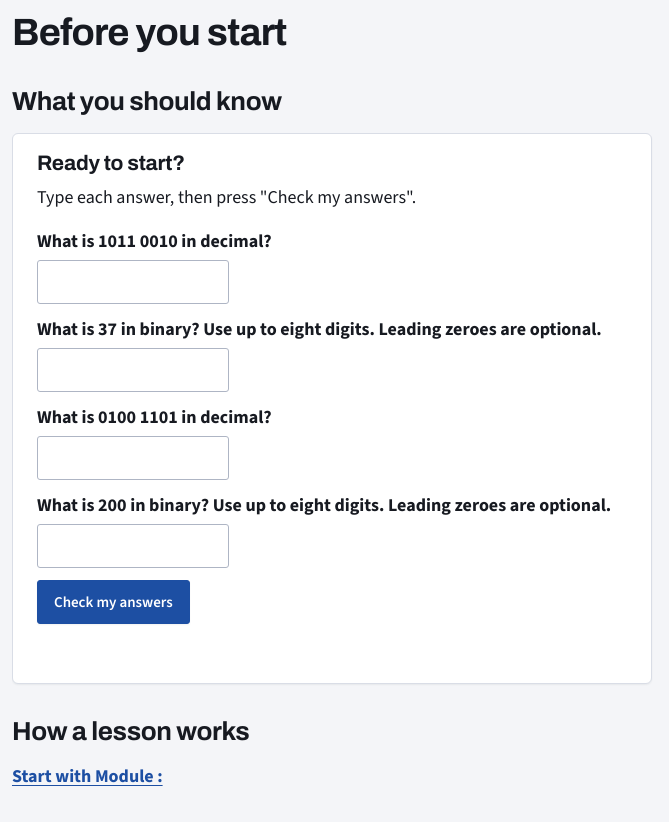
Scenario: the page before the first lesson › marks each answer, shows the working under a wrong one, and clears the marks on an edit
Type "178" into the field labelled "What is 1011 0010 in decimal?" at point(133, 282), box 37,260 -> 229,304
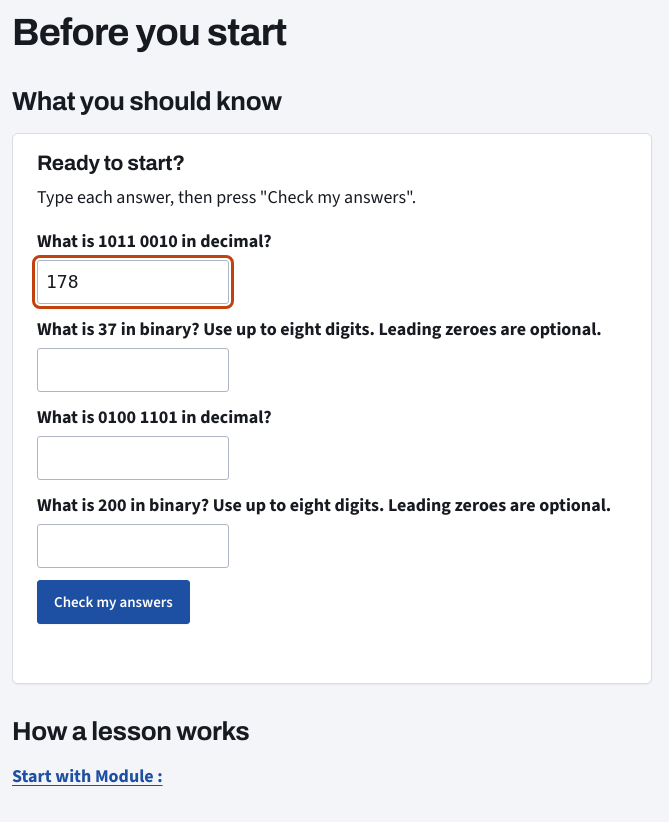
Type "100100" into the 2nd field at point(133, 370), box 37,348 -> 229,392
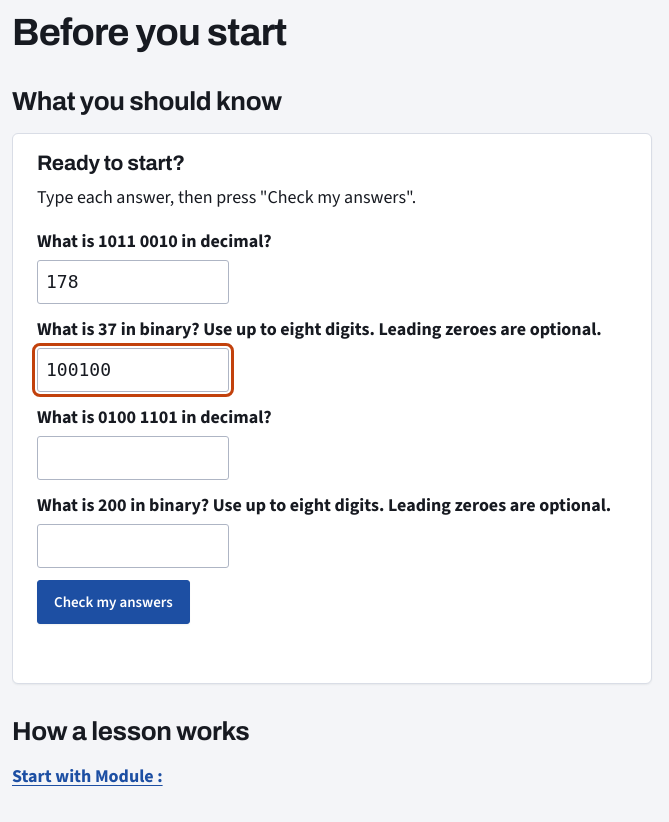
Type "11001000" into the 4th field at point(133, 546), box 37,524 -> 229,568
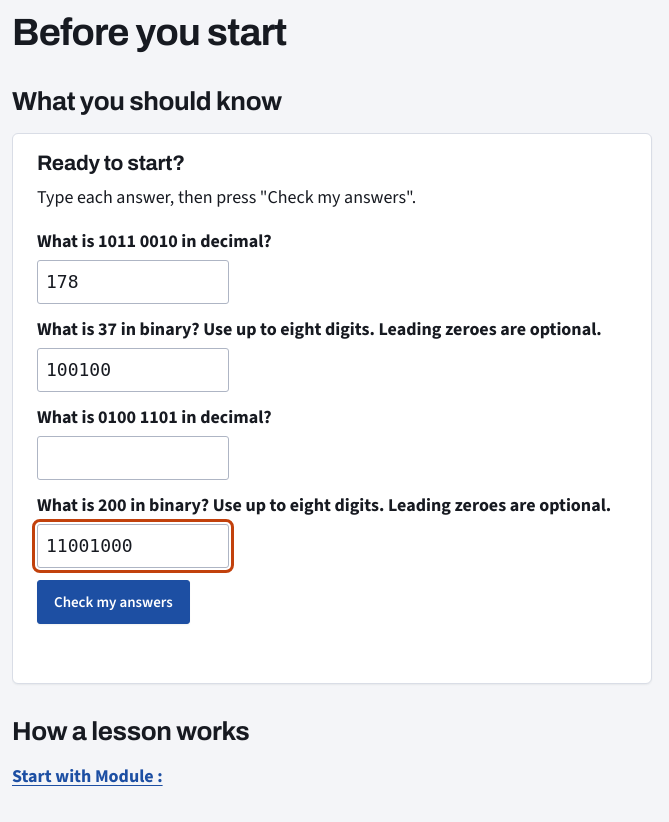
Click the button "Check my answers" at point(113, 602), box 37,580 -> 190,624
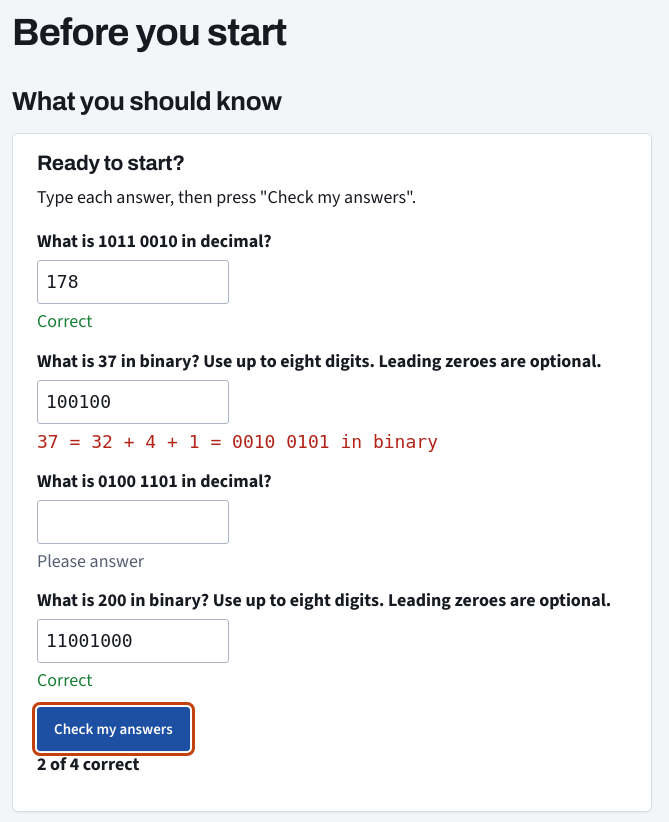
Expected: the text "Please answer" is shown, 37,549 -> 144,573
Expected: the text "Correct" is shown 2 times, 37,309 -> 92,333; 37,668 -> 92,692
Type "77" into the field labelled "What is 0100 1101 in decimal?" at point(133, 522), box 37,500 -> 229,544
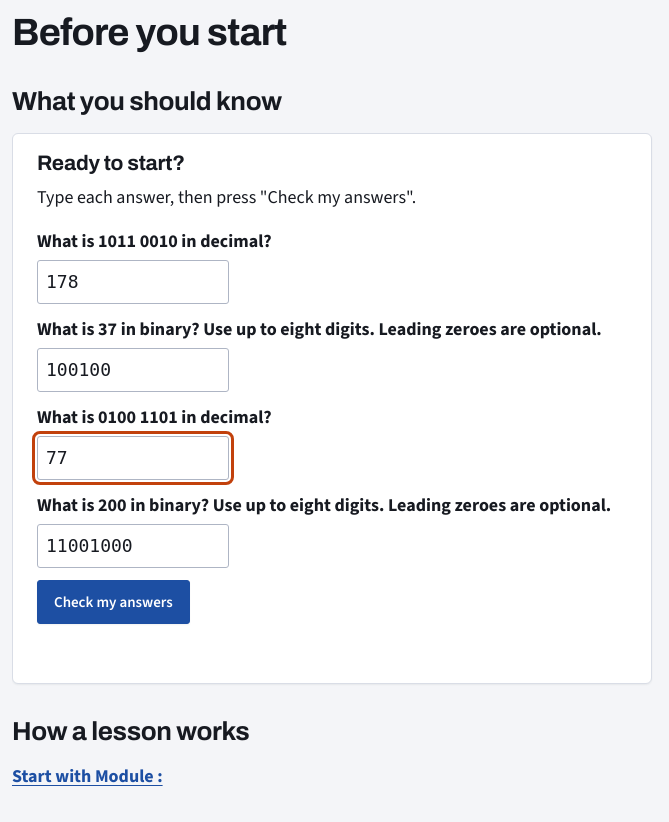
Expected: the text "Please answer" is gone
Expected: the message is empty, 37,624 -> 627,651
